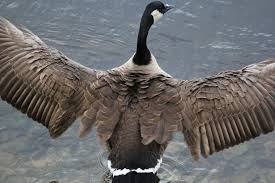goose: (2, 2, 273, 182)
